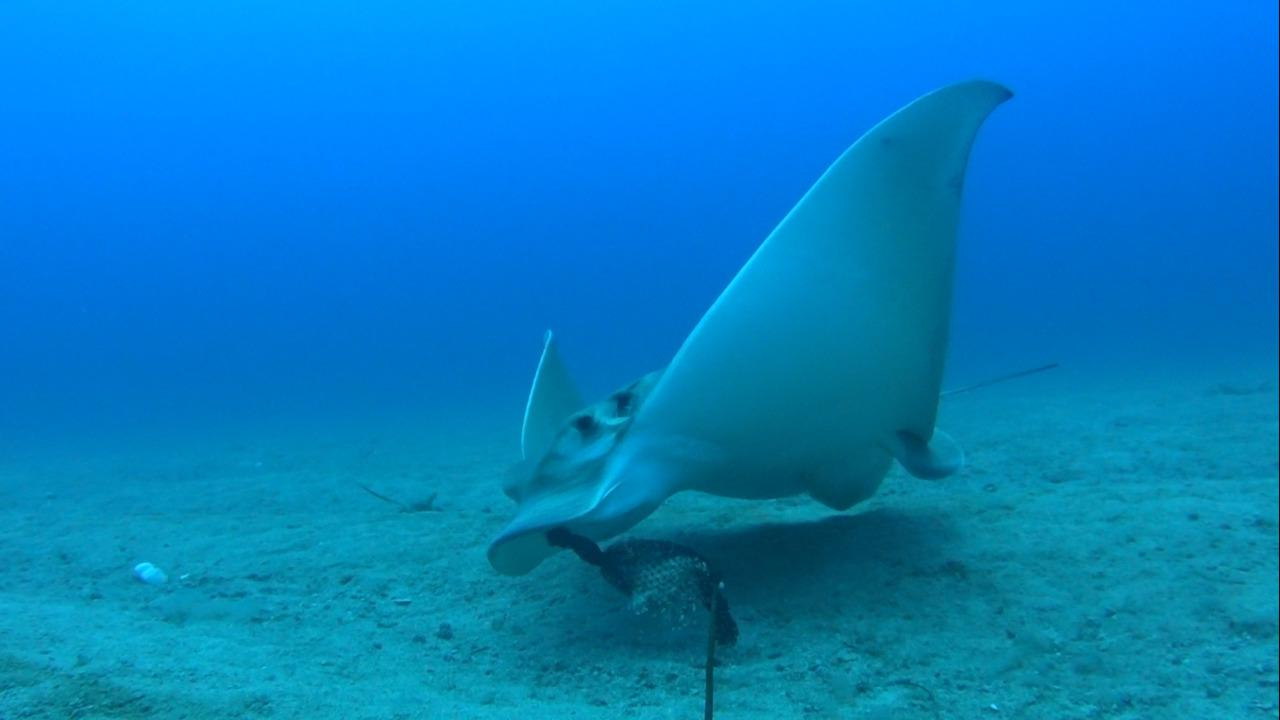myliobatis: (481, 77, 1072, 575)
